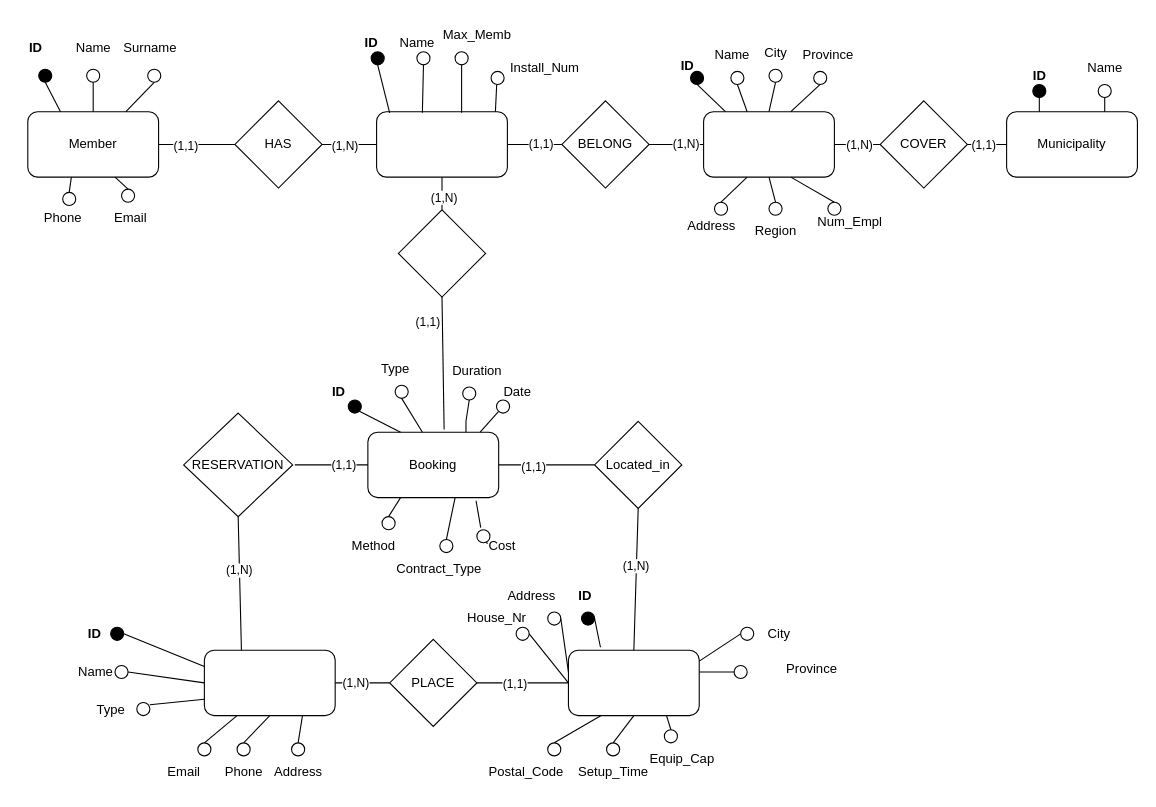
The diagram is 1156 pixels wide and 807 high, and some of its shapes have lost their labels. The shapes that lost their labels are listed below. From the top down, each one's centre as x and y in pixels, then its label:
At point 441,144: "Team".
At point 768,144: "Depot".
At point 441,253: "HANDLED".
At point 269,682: "Customer".
At point 633,682: "Event_Location".
